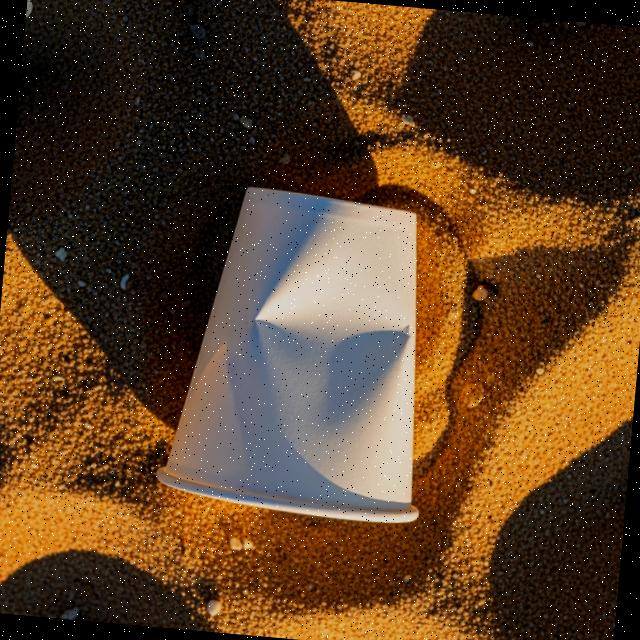paper: (154, 173, 452, 530)
